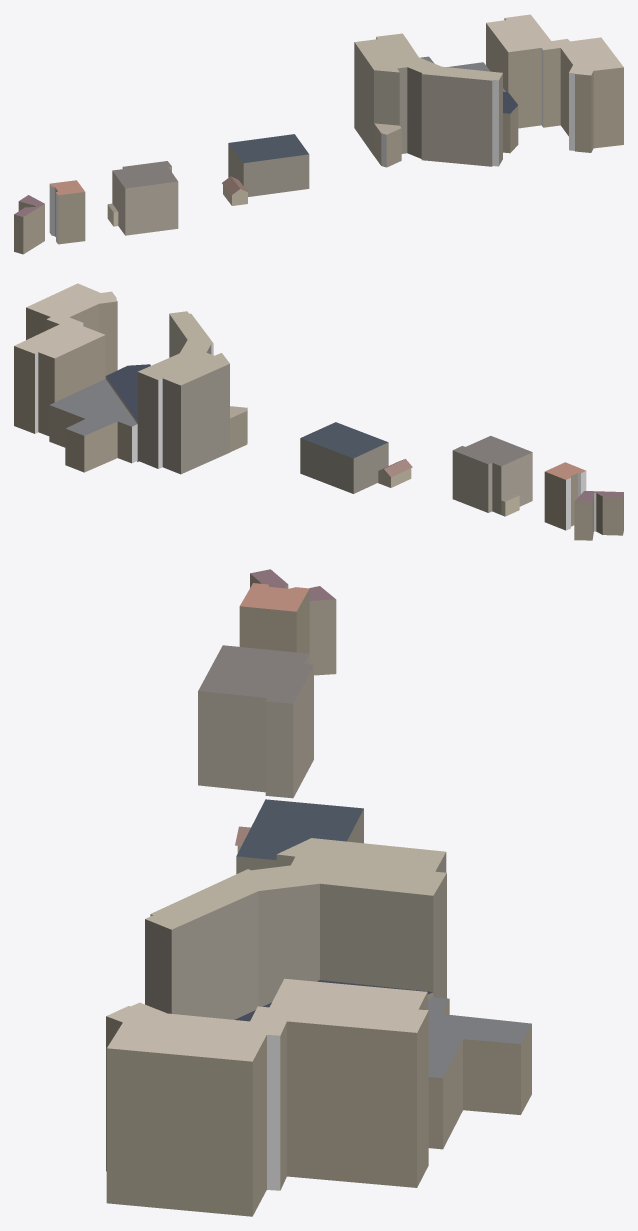
3 renders of one model, top to bottom at view 1: azimuth 30°, elevation 25°; view 2: azimuth 150°, elevation 25°; view 3: azimuth 270°, elevation 25°, orthographic. The views are drawn at different scales.
Visible parts, largest first — view 1: tuile; view 2: tuile; view 3: tuile.
Boxes of the visible parts, x1,y1,x2,y2 form: tuile: (14,14,623,254); tuile: (14,283,623,540); tuile: (106,569,531,1216).
Size of the model in its own units: 208 by 29.87 by 65.7.
